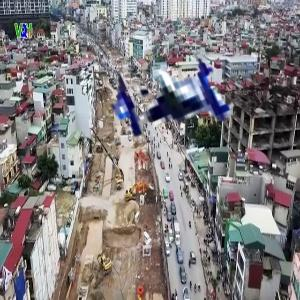drone: (79, 23, 295, 239)
